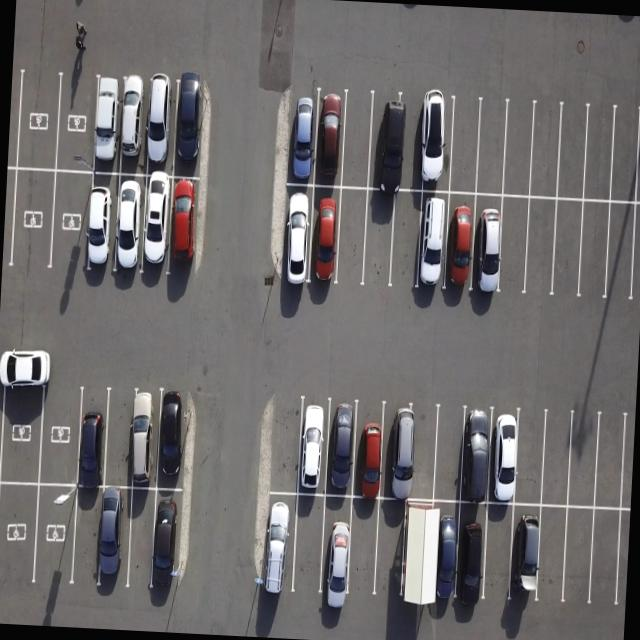car: (32, 480, 80, 587), (419, 502, 464, 614), (451, 502, 496, 612), (258, 490, 300, 606), (364, 90, 412, 190), (148, 488, 190, 598), (317, 494, 357, 608), (164, 175, 208, 278), (506, 501, 548, 604), (122, 388, 164, 490), (96, 486, 136, 593), (71, 384, 112, 488), (468, 191, 508, 297), (437, 190, 477, 296), (307, 185, 347, 291), (348, 400, 391, 498), (136, 174, 176, 279), (456, 408, 498, 507), (153, 389, 194, 490), (80, 170, 118, 278), (482, 408, 524, 505), (414, 98, 456, 195), (112, 170, 150, 276), (322, 398, 363, 496), (381, 402, 422, 500), (296, 398, 336, 498), (282, 181, 318, 291), (414, 190, 452, 294), (314, 89, 351, 189), (173, 78, 209, 178), (141, 77, 177, 176), (288, 88, 323, 186), (90, 76, 124, 174), (120, 78, 152, 174)
free: (37, 376, 87, 486), (0, 367, 44, 486), (48, 167, 95, 277), (101, 386, 151, 489), (8, 165, 54, 273), (15, 66, 60, 172), (290, 494, 331, 607), (395, 501, 438, 608), (529, 506, 573, 610), (56, 68, 100, 172), (558, 502, 600, 608), (477, 500, 519, 604), (586, 508, 628, 612), (342, 498, 383, 604), (536, 410, 578, 510), (332, 188, 372, 292), (66, 484, 105, 590), (493, 194, 533, 296), (0, 482, 38, 589), (388, 188, 428, 289), (562, 411, 602, 512), (574, 196, 612, 302), (338, 88, 378, 188), (265, 396, 305, 496), (523, 195, 562, 297), (512, 408, 552, 507), (122, 488, 159, 594), (427, 404, 467, 502), (358, 190, 398, 288), (548, 195, 586, 298), (592, 413, 630, 513), (605, 199, 640, 306), (444, 98, 482, 195), (405, 408, 442, 506), (370, 500, 406, 599), (554, 102, 591, 198), (529, 103, 566, 198), (499, 99, 536, 194), (580, 104, 616, 200), (475, 100, 511, 195), (396, 95, 428, 195), (609, 103, 640, 201)
